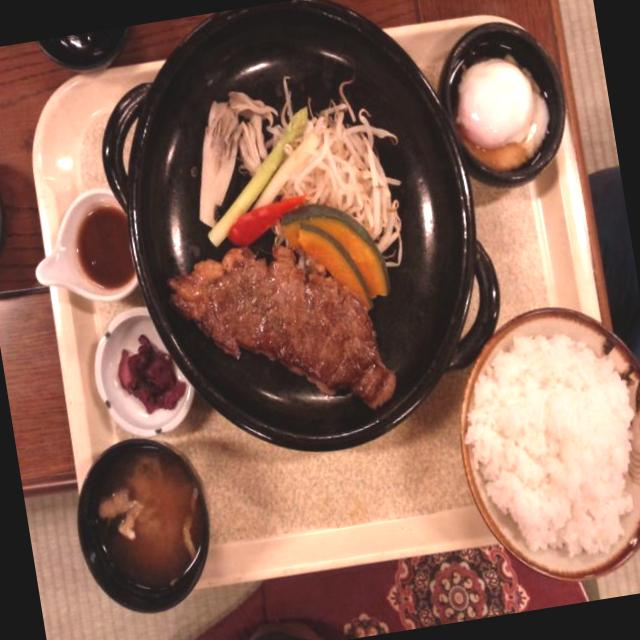Rice: (440, 286, 640, 592)
